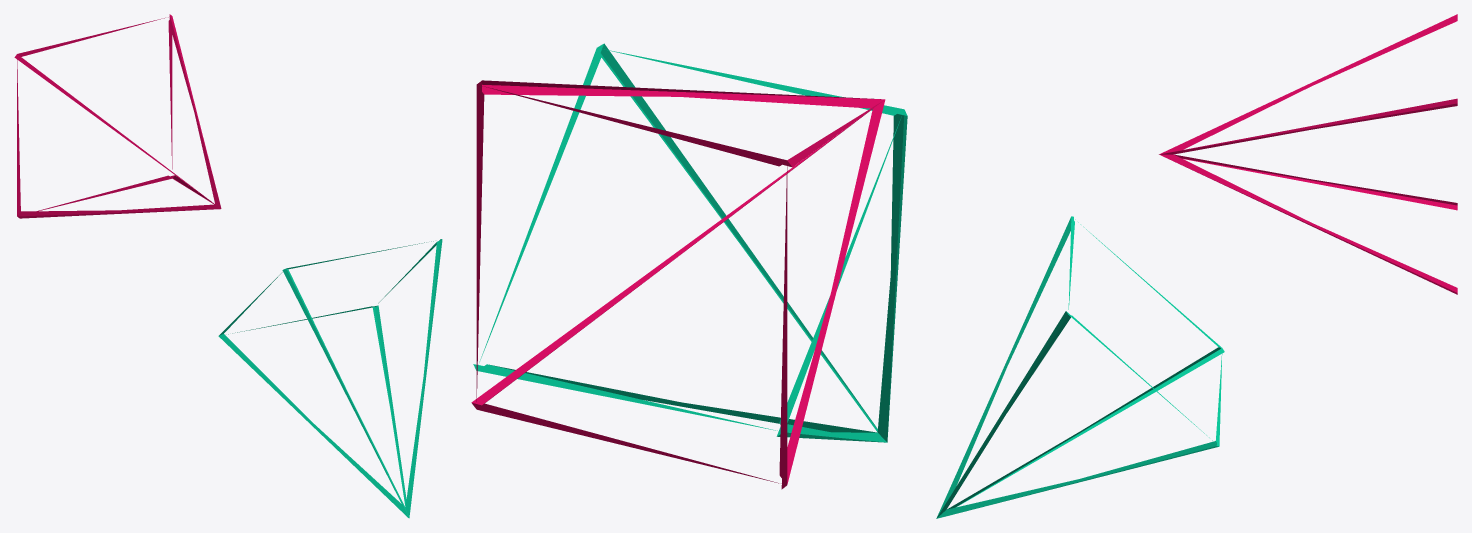
Rendered from pitch_180_wrist_video_10.glb.
3 renders of one model, left to right at view 1: azimuth 30°, elevation 25°; view 2: azimuth 150°, elevation 25°; view 3: azimuth 270°, elevation 25°, orthographic. The views are drawn at different scales.
Visible parts, largest first — view 1: world; view 2: world; view 3: world.
Boxes of the visible parts, x1=… form: world: x1=14, y1=14, x2=442, y2=518; world: x1=471, y1=43, x2=907, y2=489; world: x1=936, y1=14, x2=1457, y2=518.
Size of the model in its own units: 0.1862 by 0.2352 by 0.2713.
